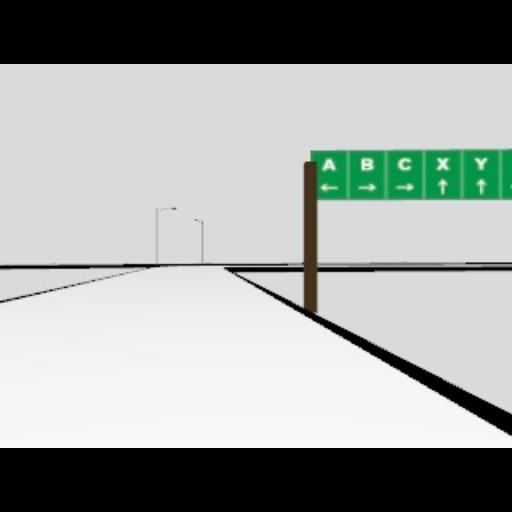A: (322, 157, 334, 171)
B: (360, 156, 372, 170)
C: (397, 157, 411, 171)
Left: (318, 182, 338, 190)
Right: (356, 182, 376, 190), (396, 182, 414, 190)
Straight: (436, 177, 448, 195), (476, 178, 486, 194)
X: (436, 156, 448, 170)
Y: (474, 155, 488, 169)
